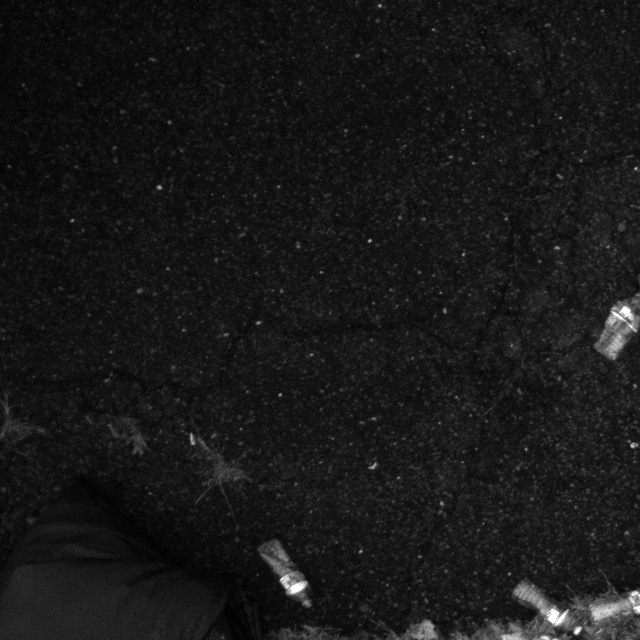bottle: (254, 539, 319, 613), (519, 582, 583, 639), (587, 578, 640, 627)
